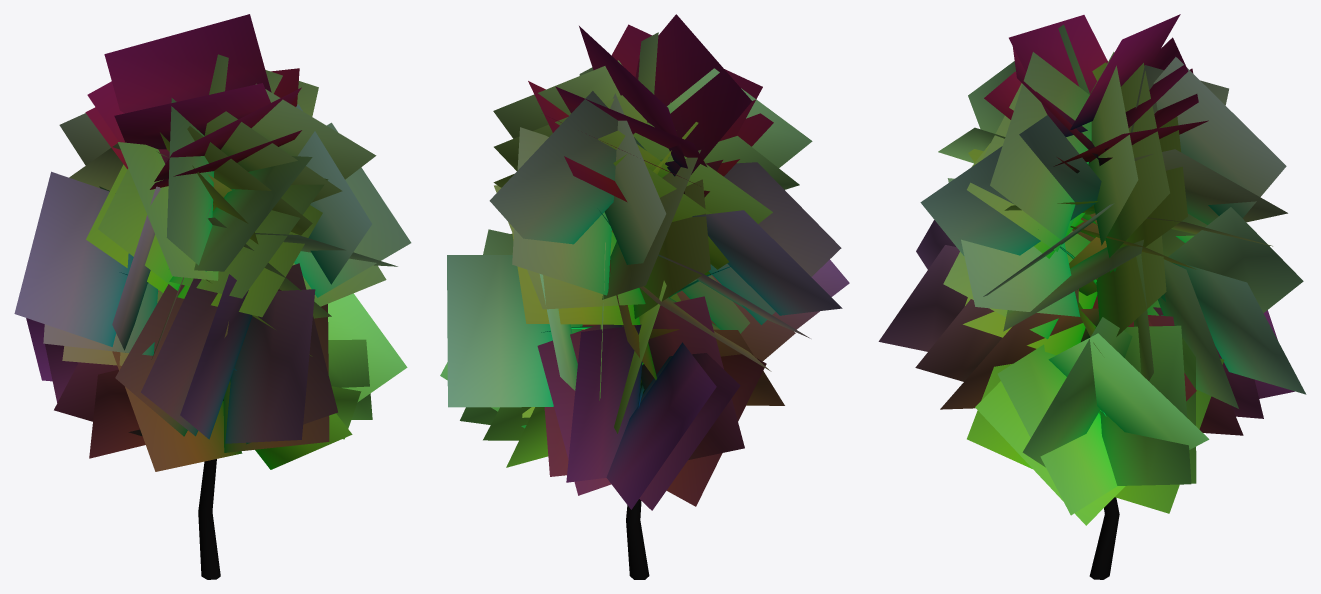
File: URP_P15_Tree_2_LOD_3.fbx
3 views of the same model, side by side, from view 1: azimuth 30°, elevation 25°; view 2: azimuth 150°, elevation 25°; view 3: azimuth 270°, elevation 25° (orthographic). The views are drawn at different scales.
Parts seen in each view (by area): view 1: Tree_2_LOD_3; view 2: Tree_2_LOD_3; view 3: Tree_2_LOD_3.
Boxes of the visible parts, x1,y1,x2,y2 form: Tree_2_LOD_3: (14,14,411,579); Tree_2_LOD_3: (440,14,849,579); Tree_2_LOD_3: (878,14,1306,579).
Size of the model in its own units: 512 by 740 by 511.
